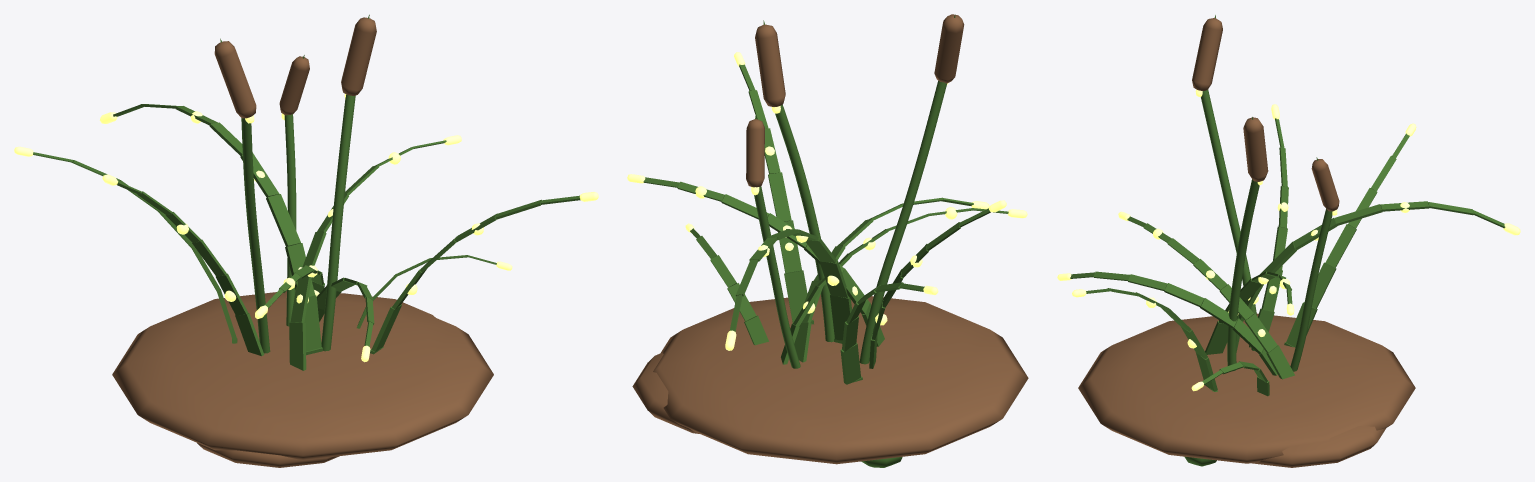
File: node-rain-reed.glb
The picture shows the model from 3 angles, left to right: view 1: azimuth 30°, elevation 25°; view 2: azimuth 150°, elevation 25°; view 3: azimuth 270°, elevation 25°; orthographic projection. The views are drawn at different scales.
Visible parts, largest first — view 1: Mesh_BaseMound1, Mesh_Stalk1, Mesh_Stalk2, Mesh_CatHead1Mesh, Mesh_CatHead2Mesh, Mesh_Stalk3, Mesh_BaseMound3, Mesh_CatHead3Mesh, Mesh_Blade5_M_3, Mesh_Blade4_M_1, Mesh_Blade5_M_1, Mesh_Blade7_M_1 (+1 smaller); view 2: Mesh_BaseMound1, Mesh_Stalk2, Mesh_Stalk1, Mesh_CatHead1Mesh, Mesh_Stalk3, Mesh_BaseMound2, Mesh_CatHead2Mesh, Mesh_CatHead3Mesh, Mesh_Blade1_M_1, Mesh_Blade1_M_3, Mesh_Blade5_M_1, Mesh_Blade3_M_1 (+6 smaller); view 3: Mesh_BaseMound1, Mesh_BaseMound2, Mesh_Stalk2, Mesh_Stalk1, Mesh_CatHead2Mesh, Mesh_Stalk3, Mesh_CatHead1Mesh, Mesh_CatHead3Mesh, Mesh_Blade3_M_3, Mesh_Blade3_M_2, Mesh_Blade4_M_1, Mesh_Blade2_M_2 (+1 smaller).
Part boxes in pixels (x1,y1,x2,y2): Mesh_BaseMound1: (112,291,493,460); Mesh_Stalk1: (321,94,355,351); Mesh_Stalk2: (241,118,270,353); Mesh_CatHead1Mesh: (341,17,376,95); Mesh_CatHead2Mesh: (214,41,256,118); Mesh_Stalk3: (284,114,296,326); Mesh_BaseMound3: (197,443,339,467); Mesh_CatHead3Mesh: (279,56,309,115); Mesh_Blade5_M_3: (266,194,300,246); Mesh_Blade4_M_1: (289,322,306,370); Mesh_Blade5_M_1: (304,295,321,351); Mesh_Blade7_M_1: (235,313,264,356); Mesh_BaseMound1: (653,294,1028,464); Mesh_Stalk2: (859,80,947,364); Mesh_Stalk1: (775,105,834,342); Mesh_CatHead1Mesh: (755,24,785,106); Mesh_Stalk3: (754,186,800,368); Mesh_BaseMound2: (632,352,699,433); Mesh_CatHead2Mesh: (934,14,964,83); Mesh_CatHead3Mesh: (746,119,764,187); Mesh_Blade1_M_1: (784,270,812,323); Mesh_Blade1_M_3: (768,172,791,221); Mesh_Blade5_M_1: (830,294,851,340); Mesh_Blade3_M_1: (840,343,860,384); Mesh_BaseMound1: (1078,313,1415,463); Mesh_BaseMound2: (1252,426,1386,467); Mesh_Stalk2: (1201,89,1256,351); Mesh_Stalk1: (1227,179,1259,370); Mesh_CatHead2Mesh: (1192,18,1222,90); Mesh_Stalk3: (1290,208,1332,371); Mesh_CatHead1Mesh: (1243,117,1268,181); Mesh_CatHead3Mesh: (1311,159,1339,211); Mesh_Blade3_M_3: (1325,224,1356,268); Mesh_Blade3_M_2: (1304,262,1336,308); Mesh_Blade4_M_1: (1205,321,1227,354); Mesh_Blade2_M_2: (1244,313,1277,352).
Size of the model in its own units: 0.7126 by 0.7131 by 0.8231.
